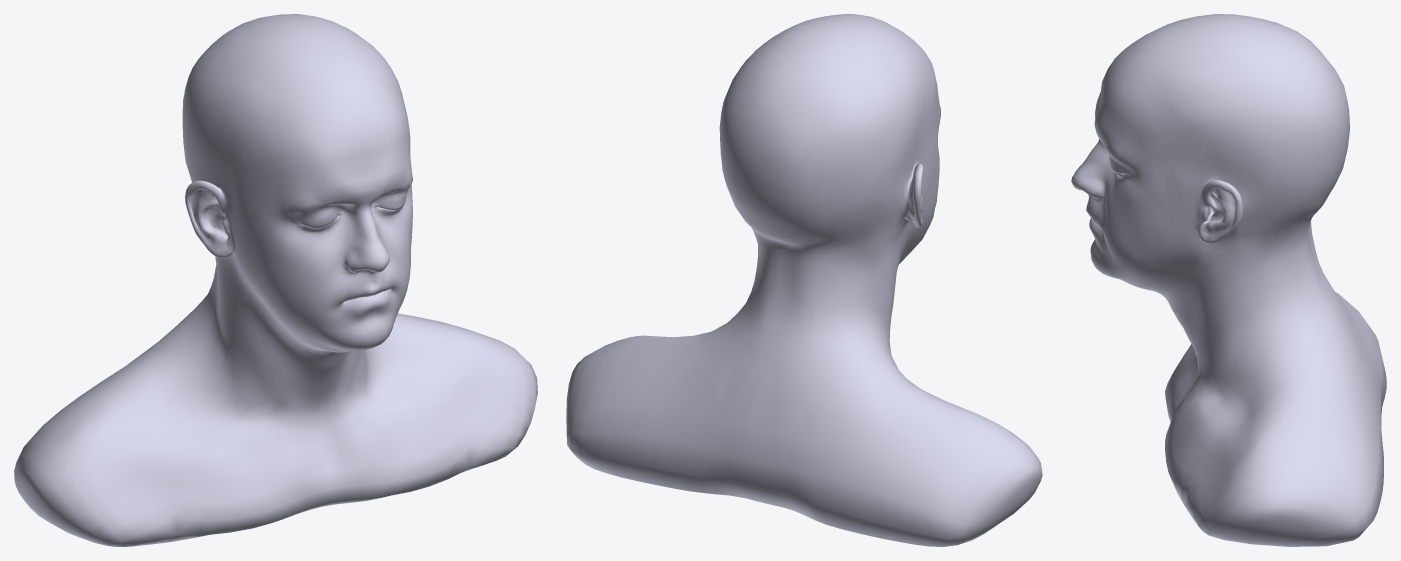
Rendered from LeePerrySmith-draco.glb.
The picture shows the model from 3 angles, left to right: view 1: azimuth 30°, elevation 25°; view 2: azimuth 150°, elevation 25°; view 3: azimuth 270°, elevation 25°; orthographic projection. The views are drawn at different scales.
Parts seen in each view (by area): view 1: LeePerrySmith; view 2: LeePerrySmith; view 3: LeePerrySmith.
Part boxes in pixels (x1,y1,x2,y2): LeePerrySmith: (14,14,537,546); LeePerrySmith: (566,14,1042,546); LeePerrySmith: (1071,14,1386,546).
Size of the model in its own units: 8.55 by 7.95 by 5.18.
